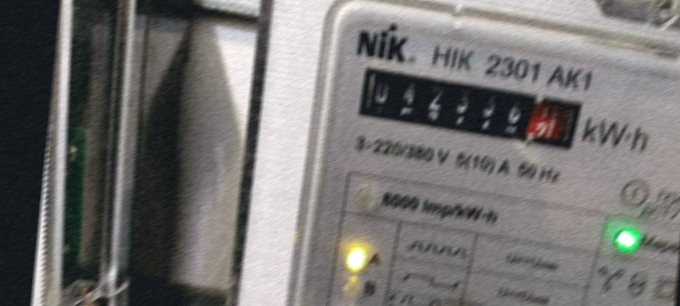0: (374, 77, 389, 107)
2: (425, 84, 446, 113)
3: (452, 87, 471, 117), (481, 91, 497, 120)
4: (400, 81, 418, 109)
6: (505, 99, 523, 127)
screen: (345, 58, 592, 162)
